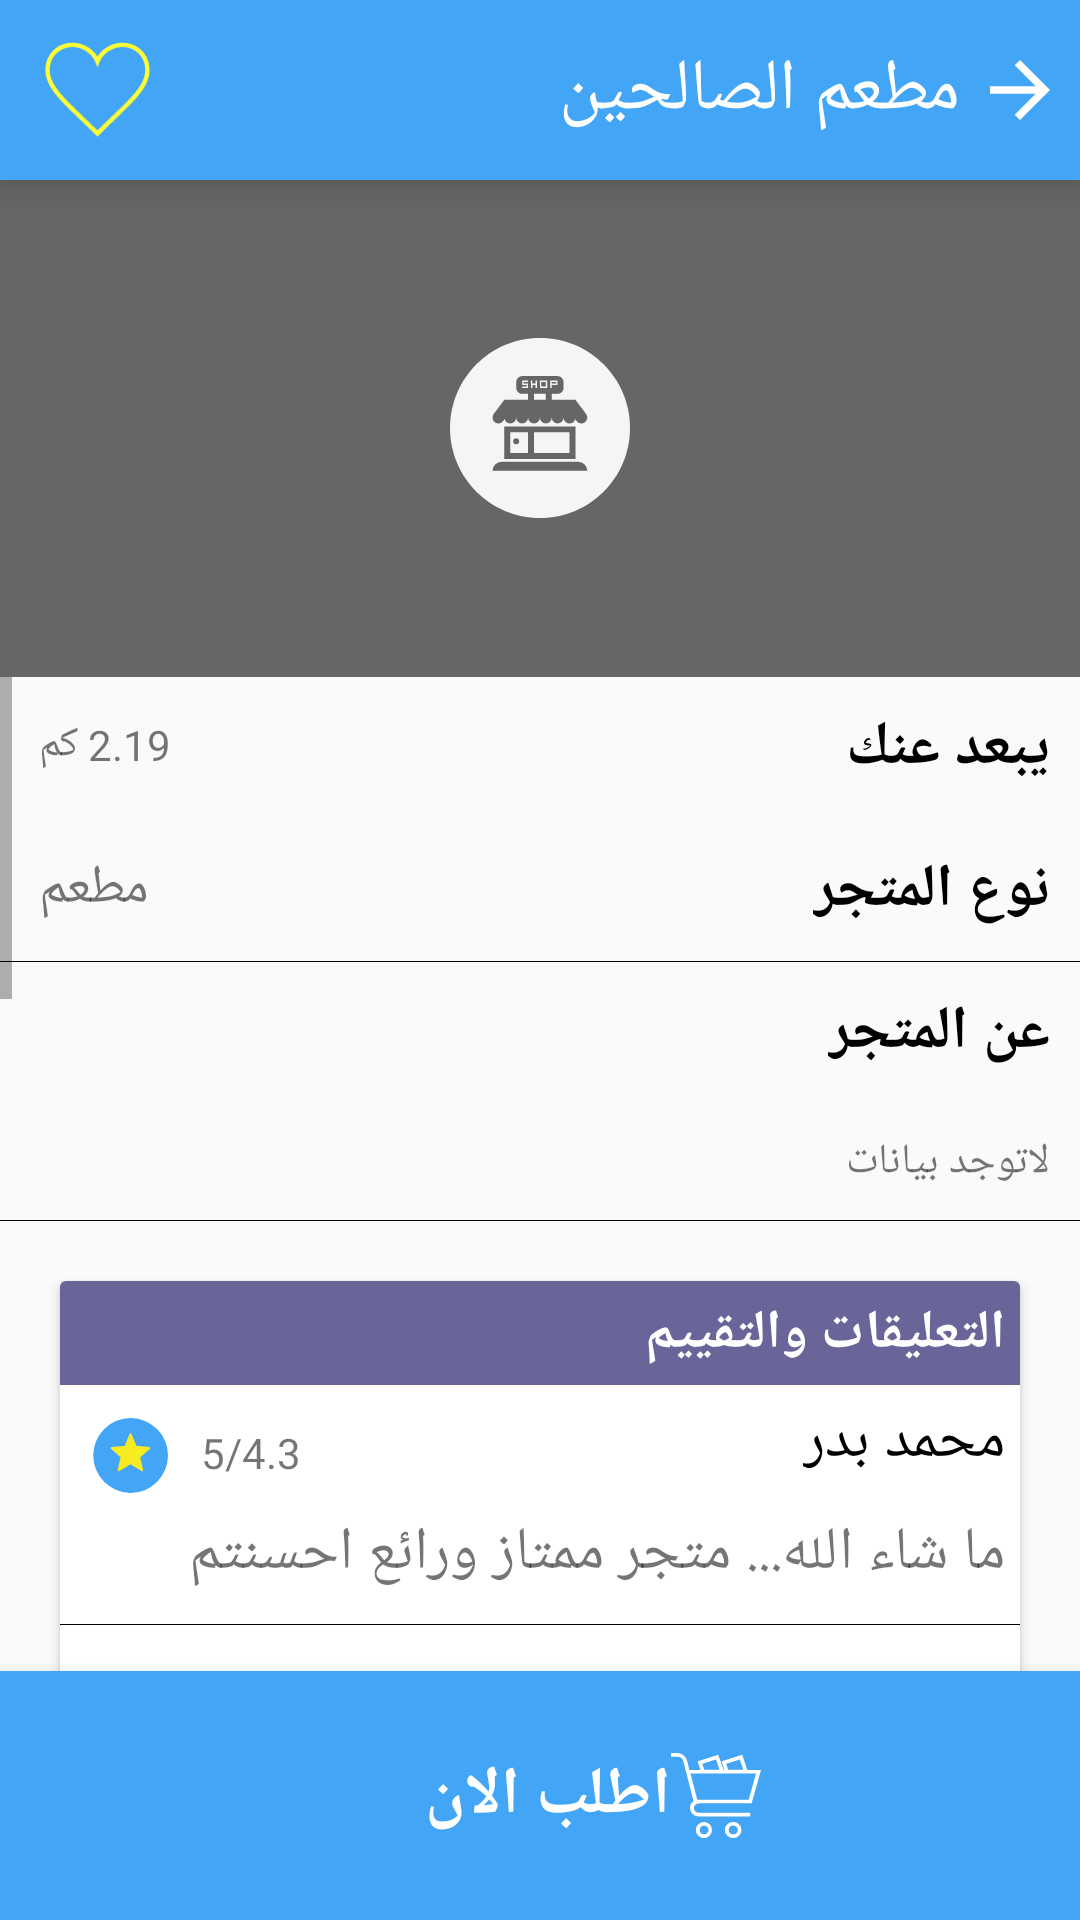

Named icons in this screenshot (1080x1920) and their centers, [x,y]:
arrow: [1020,90]
narket: [540,428]
ordernow: [716,1795]
rstae: [130,1455]
